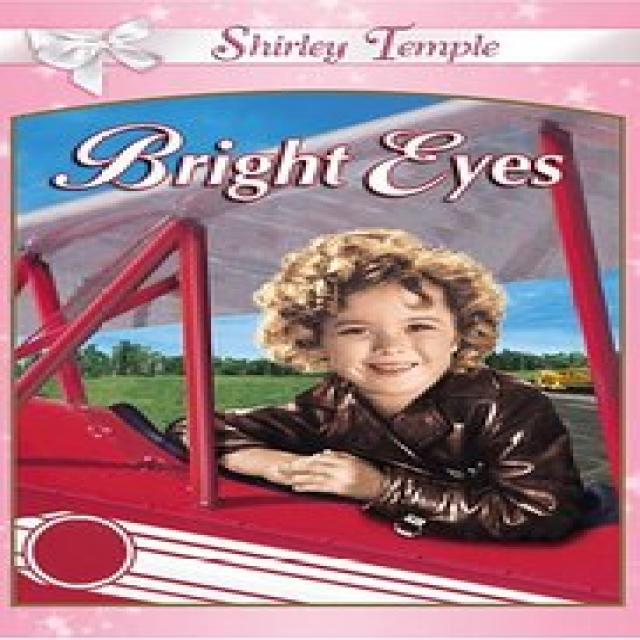movie-judul: (51, 121, 564, 202)
picture: (11, 210, 624, 608)
